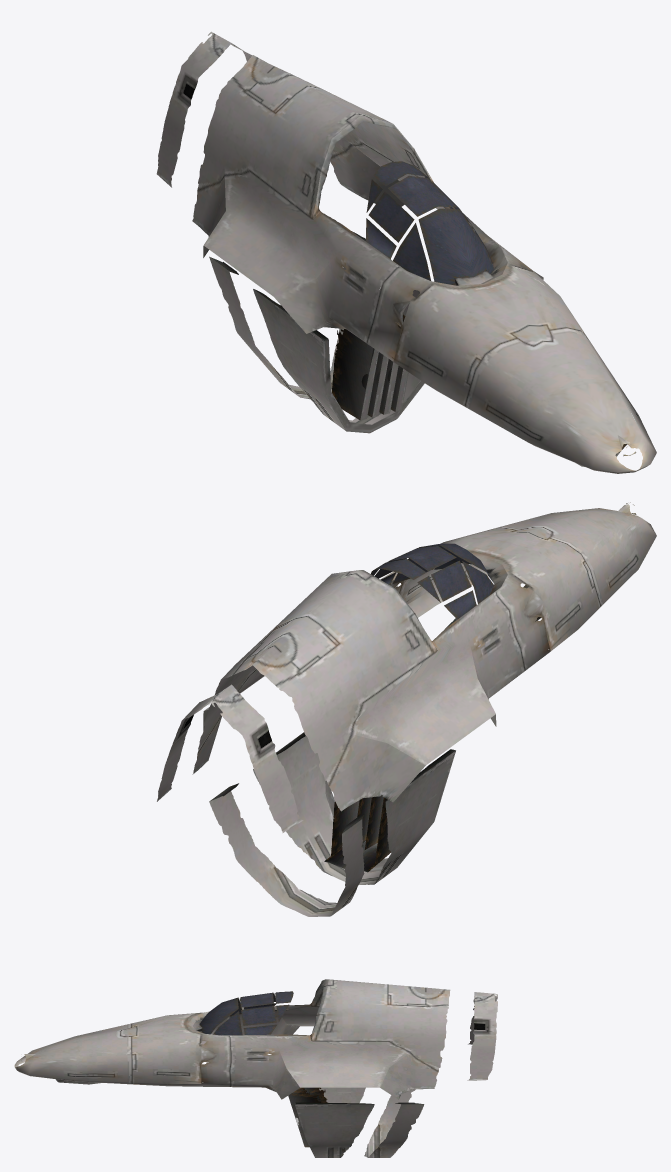
The model's file is hutt_fighter_medium_body_s01_l1.fbx.
3 renders of one model, top to bottom at view 1: azimuth 30°, elevation 25°; view 2: azimuth 150°, elevation 25°; view 3: azimuth 270°, elevation 25°, orthographic. The views are drawn at different scales.
Visible parts, largest first — view 1: mesh_node; view 2: mesh_node; view 3: mesh_node.
Part boxes in pixels (x1,y1,x2,y2): mesh_node: [156, 31, 656, 473]; mesh_node: [157, 502, 656, 916]; mesh_node: [14, 979, 497, 1157].
Size of the model in its own units: 4.97 by 6.61 by 21.9.
2 materials, 2 textured.
